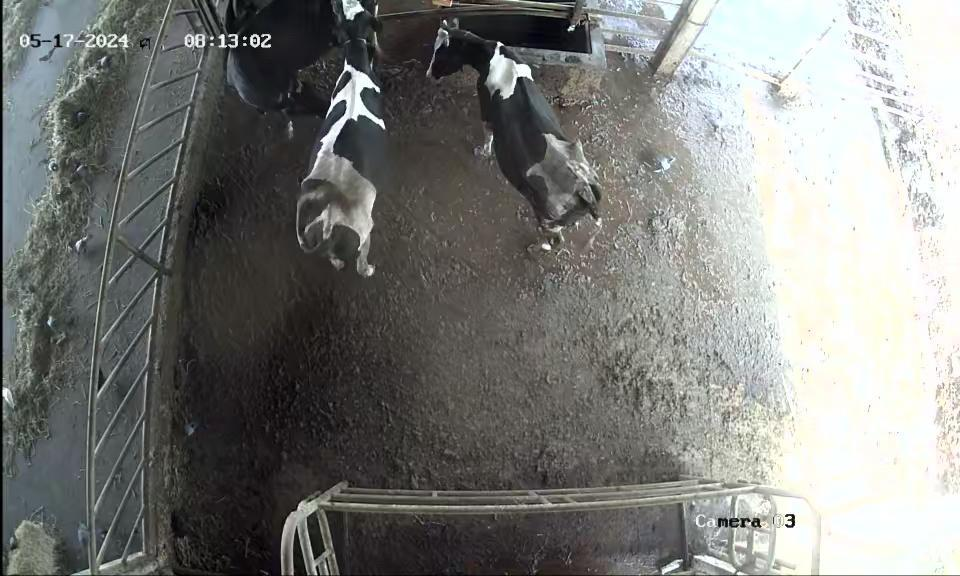propping: (310, 0, 398, 91)
stand: (418, 11, 623, 274), (217, 0, 339, 118)
